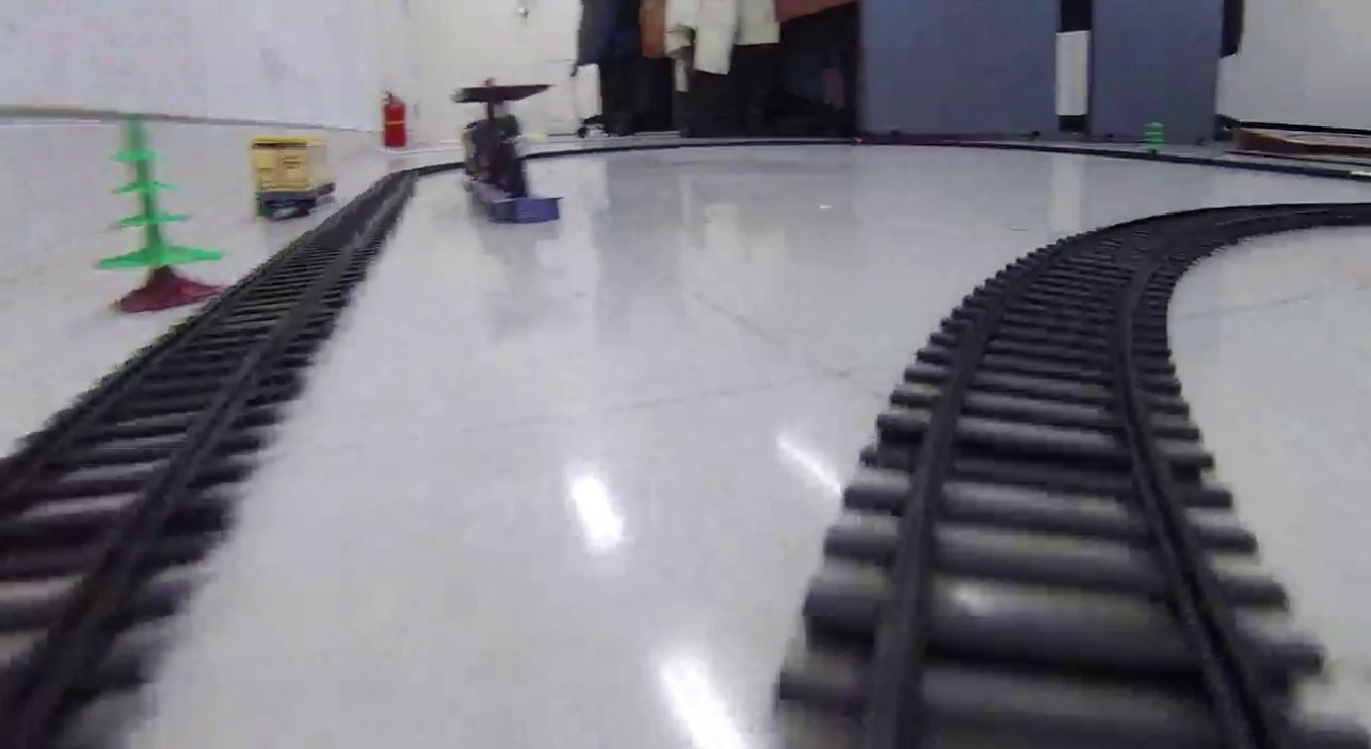tree: (95, 116, 231, 312)
